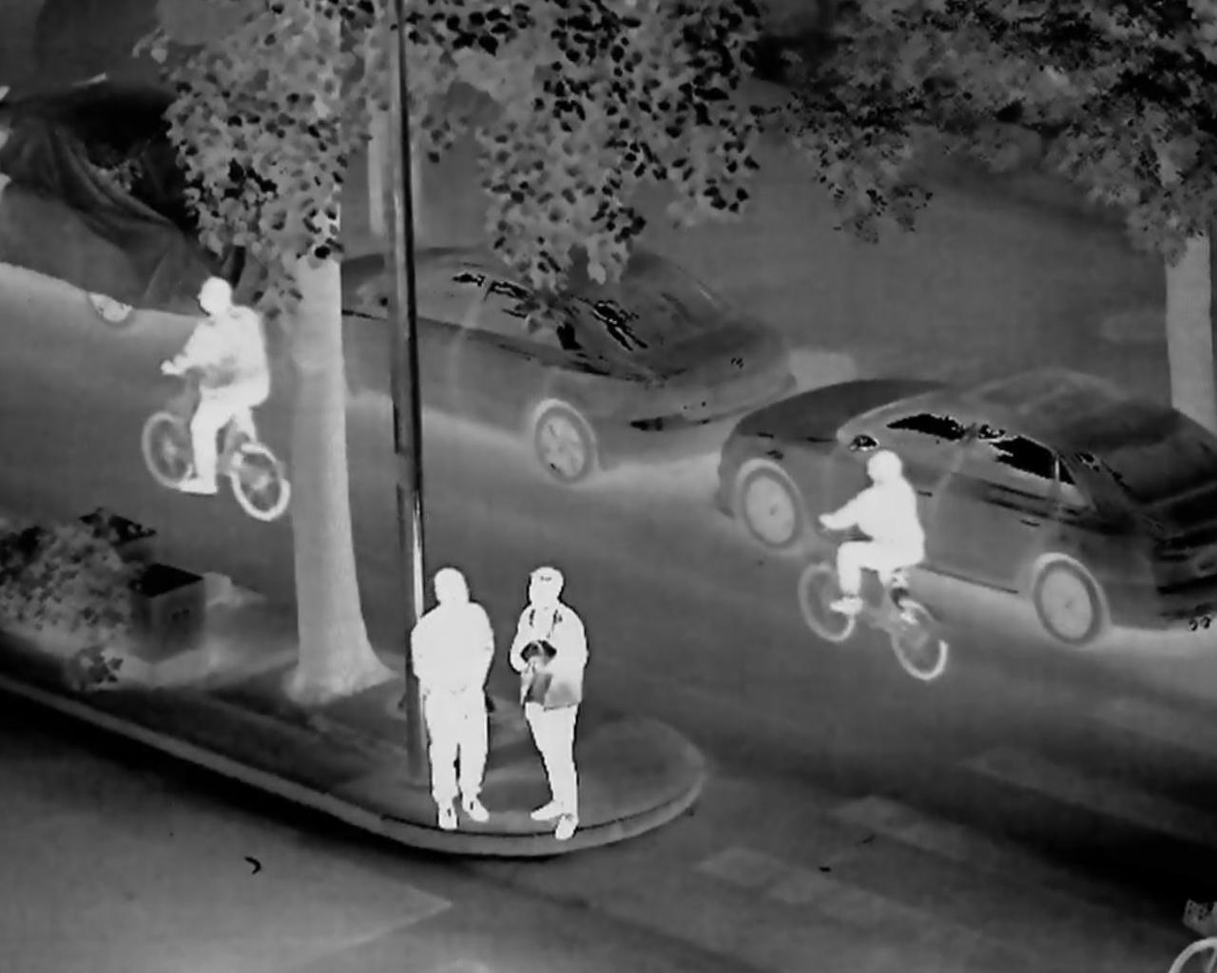person: (391, 553, 501, 826), (156, 275, 280, 496), (497, 554, 592, 839), (814, 442, 937, 658)
